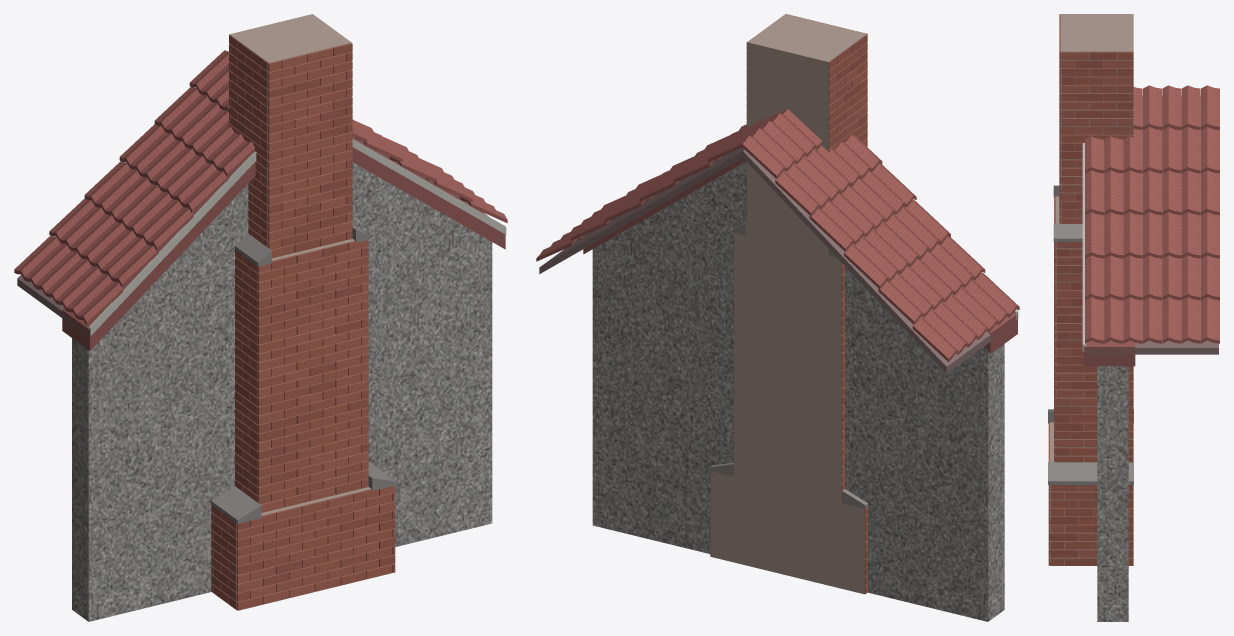
File: yan-chimney-far.glb
The picture shows the model from 3 angles, left to right: view 1: azimuth 30°, elevation 25°; view 2: azimuth 150°, elevation 25°; view 3: azimuth 270°, elevation 25°; orthographic projection. The views are drawn at different scales.
Parts seen in each view (by area): view 1: 严家花园愚园路山墙红砖烟囱; view 2: 严家花园愚园路山墙红砖烟囱; view 3: 严家花园愚园路山墙红砖烟囱.
Part boxes in pixels (<box>): 严家花园愚园路山墙红砖烟囱: <box>14,14,507,621</box>; 严家花园愚园路山墙红砖烟囱: <box>536,14,1019,621</box>; 严家花园愚园路山墙红砖烟囱: <box>1048,14,1219,621</box>.
Bounding box in the file's own units: 3.46 × 4.2 × 1.32.
Materials: 12 (7 with a texture image).
